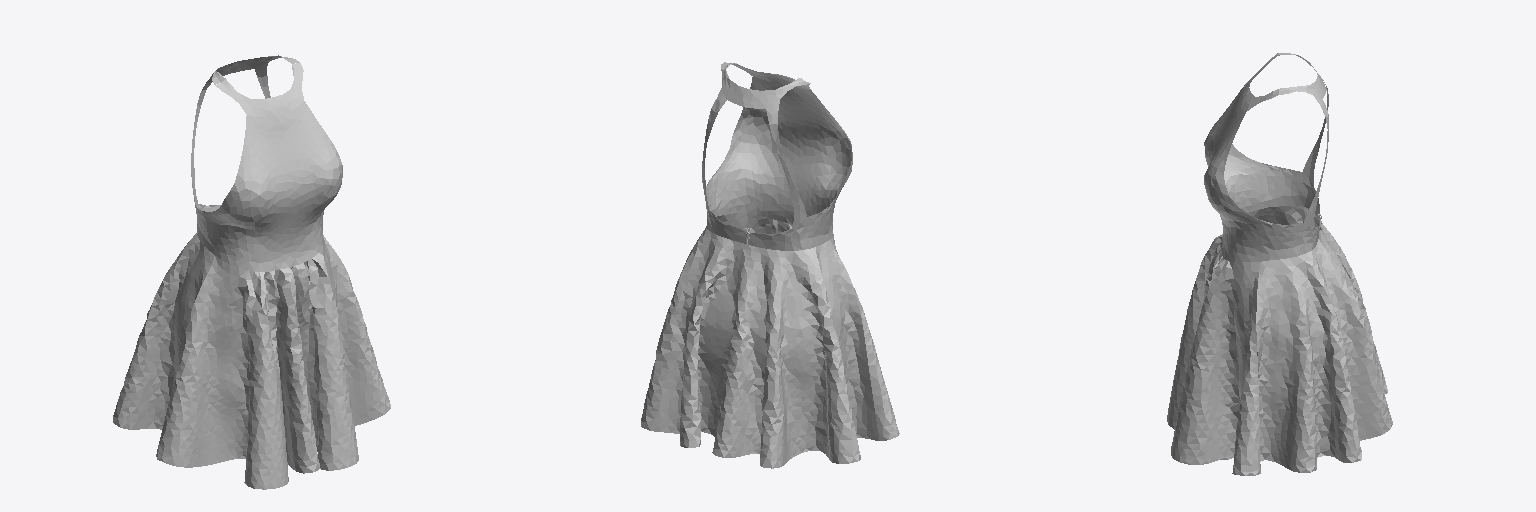
Rendered from small_greenDress_noInside3.obj.
The picture shows the model from 3 angles: view 1: azimuth 30°, elevation 25°; view 2: azimuth 150°, elevation 25°; view 3: azimuth 270°, elevation 25°; orthographic projection.
Parts seen in each view (by area): view 1: small_greenDress_noInside:Mesh small_greenDress_noInside:polySur; view 2: small_greenDress_noInside:Mesh small_greenDress_noInside:polySur; view 3: small_greenDress_noInside:Mesh small_greenDress_noInside:polySur.
Part boxes in pixels (x1,y1,x2,y2): small_greenDress_noInside:Mesh small_greenDress_noInside:polySur: (113,55,390,489); small_greenDress_noInside:Mesh small_greenDress_noInside:polySur: (641,62,899,468); small_greenDress_noInside:Mesh small_greenDress_noInside:polySur: (1167,53,1392,475).
Size of the model in its own units: 4.33 by 6.6 by 3.63.